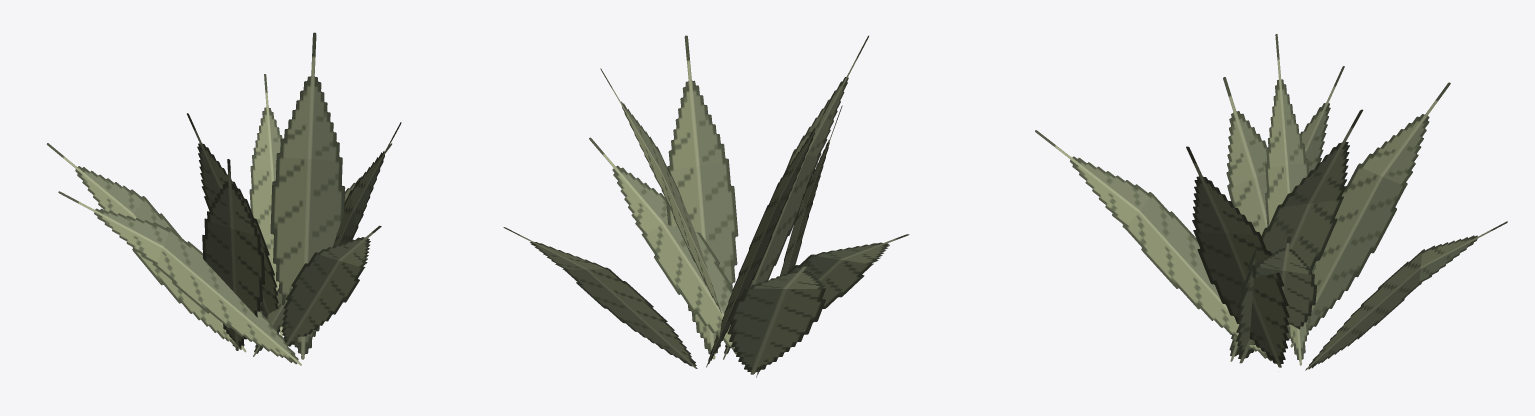
File: P06_Tuft_A.fbx
3 views of the same model, side by side, from view 1: azimuth 30°, elevation 25°; view 2: azimuth 150°, elevation 25°; view 3: azimuth 270°, elevation 25° (orthographic). The views are drawn at different scales.
Visible parts, largest first — view 1: P06_tuft_A; view 2: P06_tuft_A; view 3: P06_tuft_A.
Boxes of the visible parts, x1,y1,x2,y2 form: P06_tuft_A: (47, 32, 401, 365); P06_tuft_A: (503, 35, 909, 377); P06_tuft_A: (1035, 34, 1507, 370).
Bounding box in the file's own units: 0.358 × 0.2906 × 0.4173.
